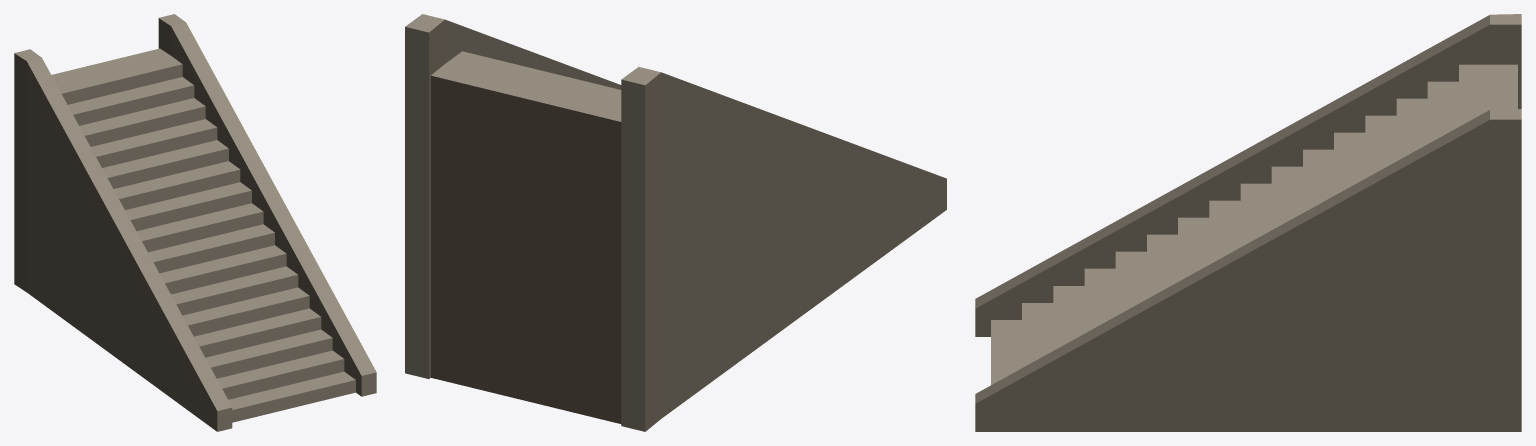
File: SF_Bld_Stairs_01.fbx
3 views of the same model, side by side, from view 1: azimuth 30°, elevation 25°; view 2: azimuth 150°, elevation 25°; view 3: azimuth 270°, elevation 25° (orthographic). The views are drawn at different scales.
Visible parts, largest first — view 1: SF_Bld_Stairs; view 2: SF_Bld_Stairs; view 3: SF_Bld_Stairs.
Part boxes in pixels (x1,y1,x2,y2): SF_Bld_Stairs: (14, 14, 376, 431); SF_Bld_Stairs: (405, 14, 946, 431); SF_Bld_Stairs: (975, 14, 1521, 431).
Size of the model in its own units: 8.07 by 11.12 by 17.62.
